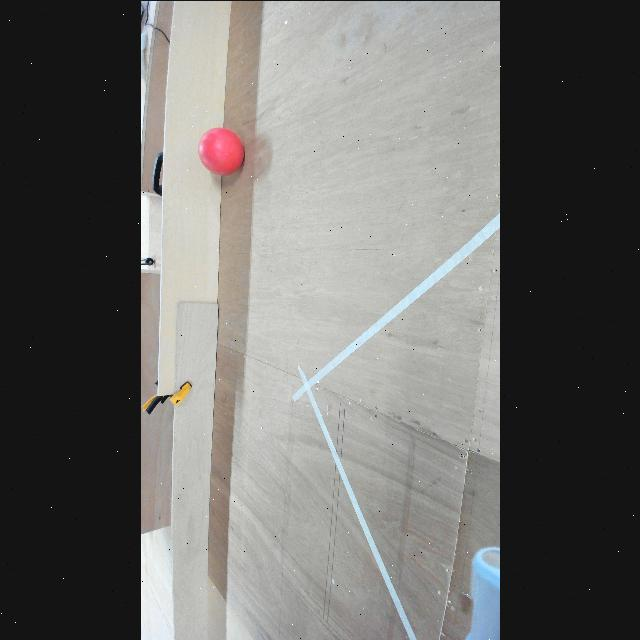R: (197, 126, 245, 174)
